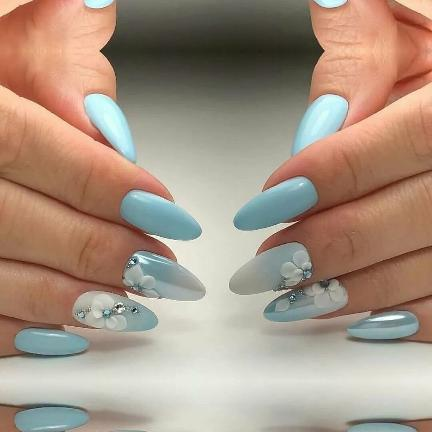Nail: (235, 176, 318, 230), (230, 243, 313, 294), (120, 189, 202, 240), (123, 250, 205, 301), (121, 189, 201, 240), (84, 93, 137, 163), (264, 279, 348, 322), (85, 94, 136, 162), (292, 94, 348, 155), (73, 291, 158, 331), (347, 310, 419, 340), (14, 328, 89, 356), (14, 406, 89, 432), (347, 422, 419, 432), (84, 0, 115, 9), (314, 0, 348, 8), (85, 0, 114, 8), (110, 431, 145, 432)
